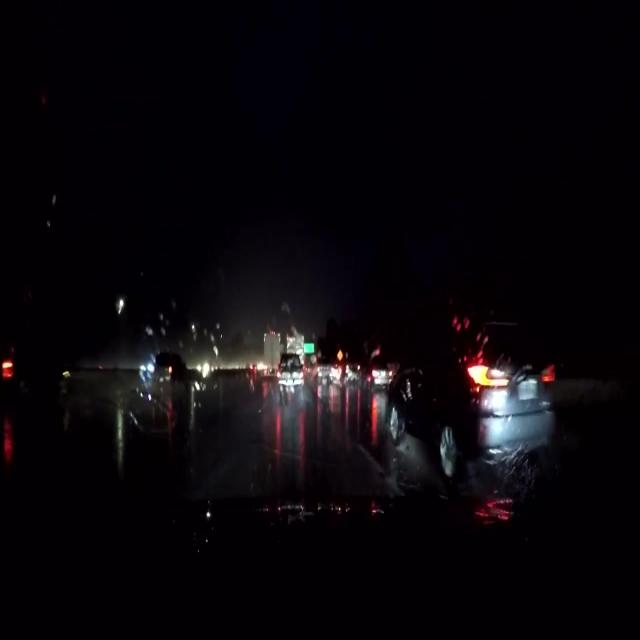Car: (384, 318, 549, 478), (1, 342, 72, 400), (274, 351, 303, 396), (361, 361, 384, 396)
